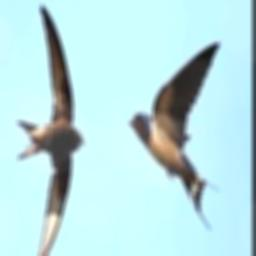Swallow: (17, 5, 85, 256), (129, 42, 220, 229)
